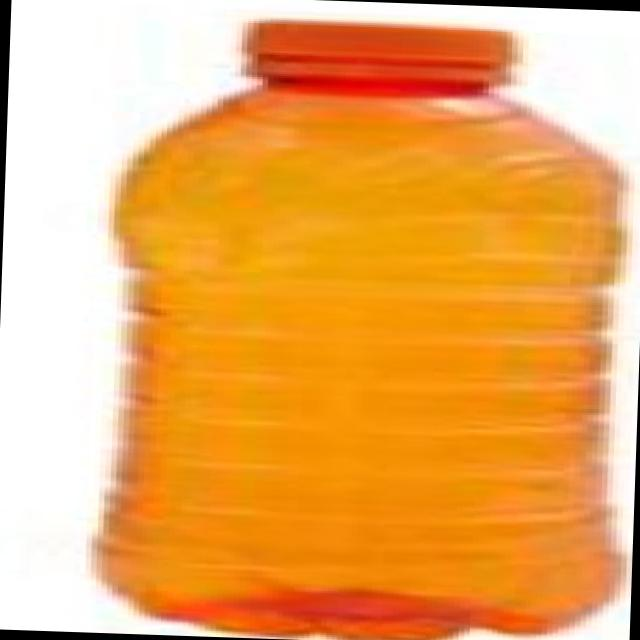general: (88, 9, 640, 640)
